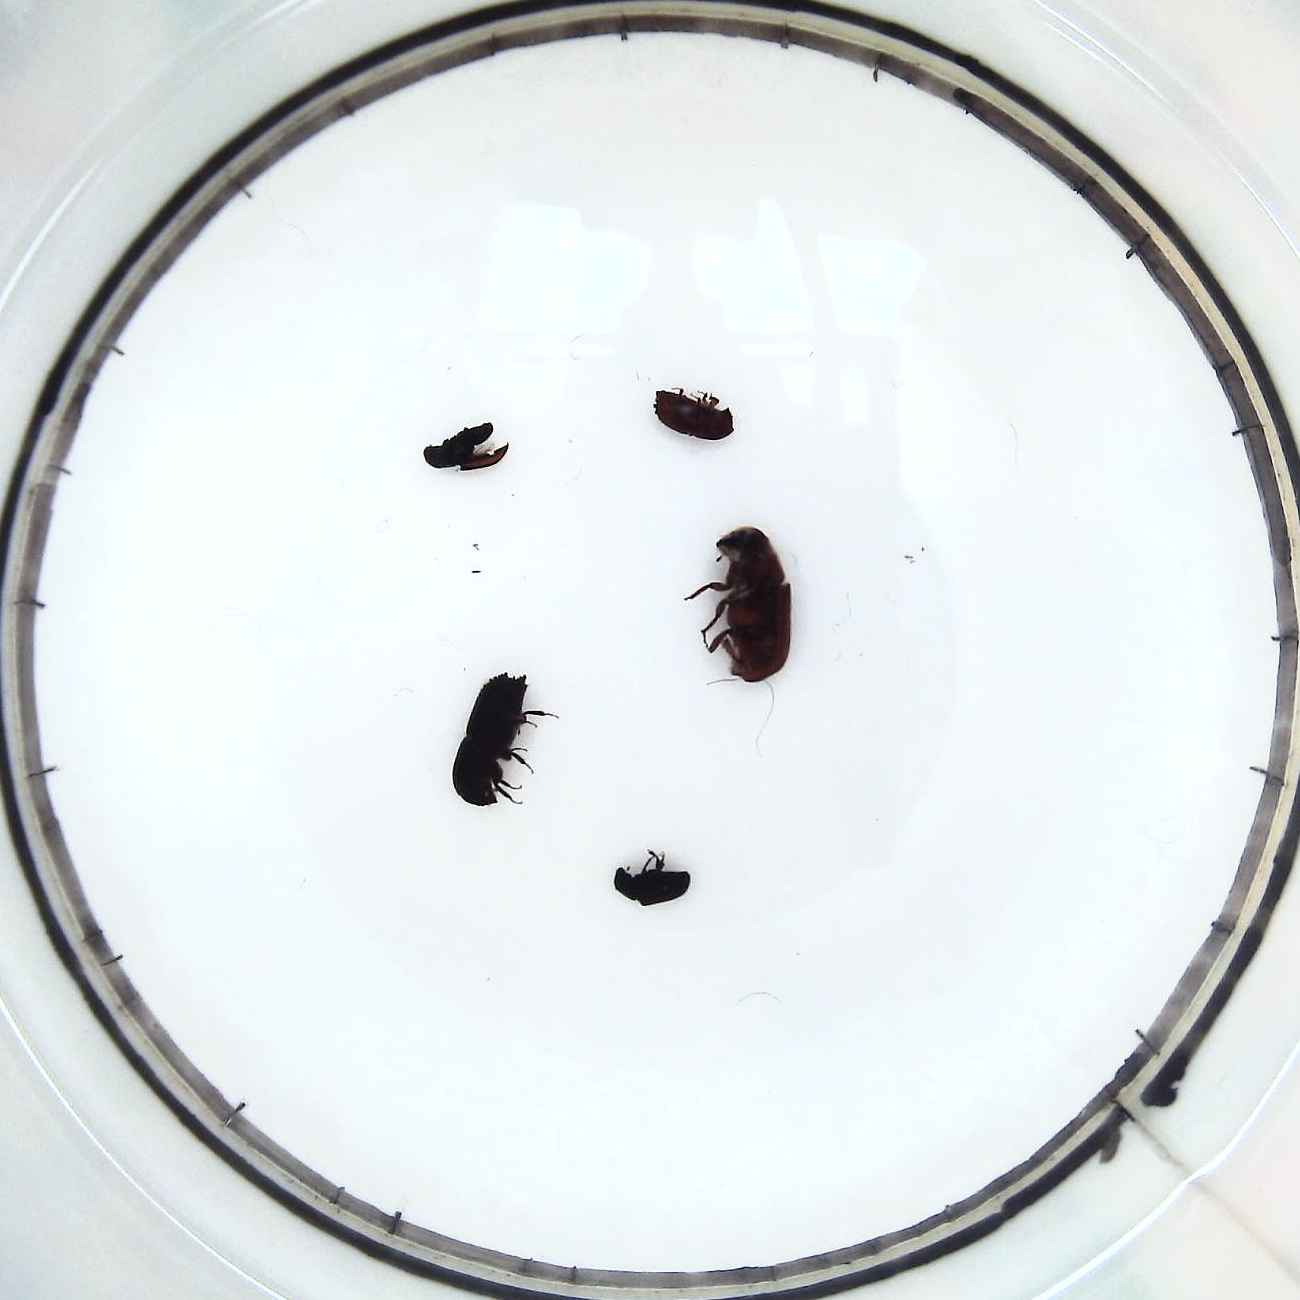Boerner: (446, 671, 554, 812)
Leconte: (681, 520, 801, 688)
armandi: (415, 415, 515, 476)
coleoptera: (608, 851, 694, 910)
linnaeus: (650, 383, 737, 444)
